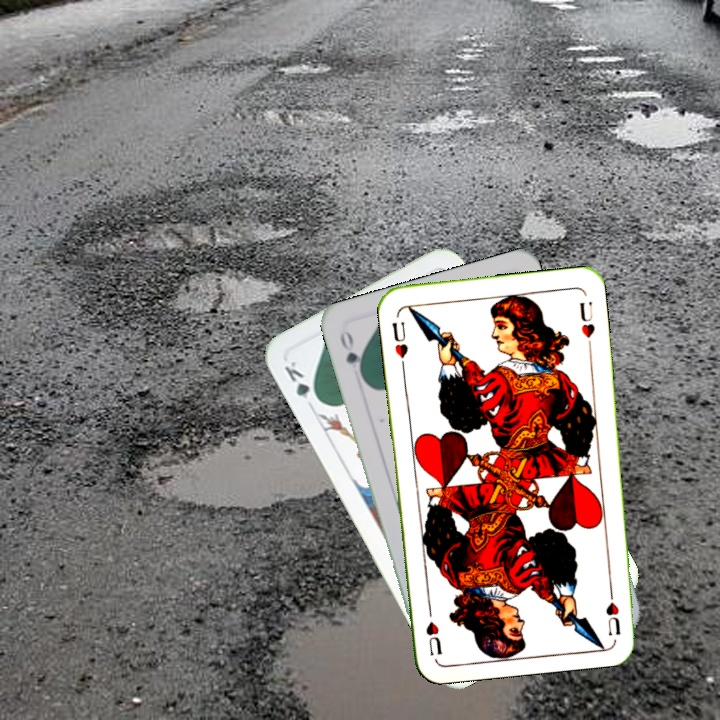GK: (280, 357, 323, 412)
GO: (336, 325, 367, 382)
HU: (602, 580, 623, 639), (388, 318, 411, 369)
